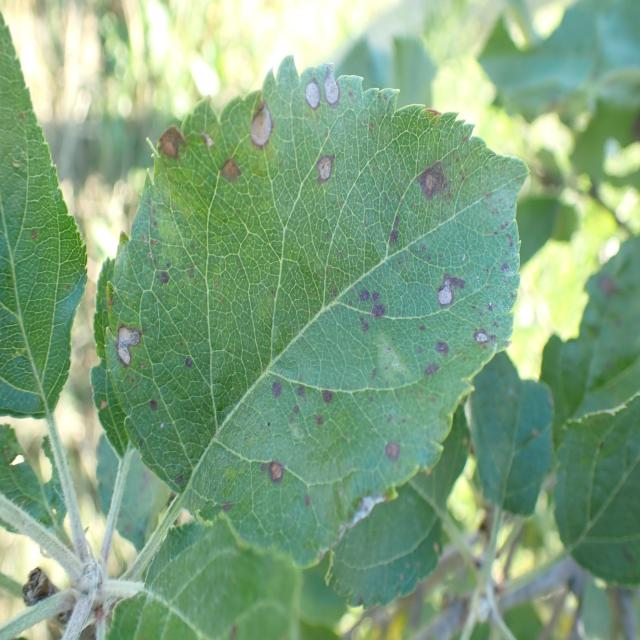frog-eye-leaf-spot: (88, 56, 529, 572), (0, 15, 88, 418)
